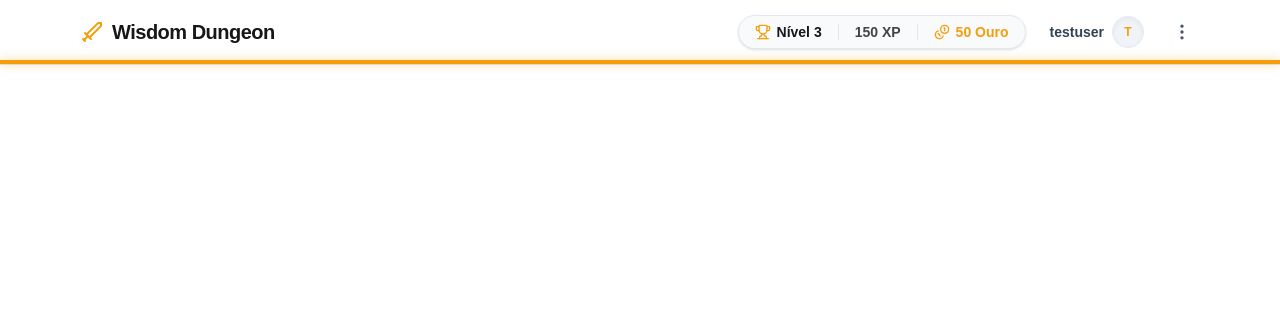
Test case: Header › shows more options menu when clicking the menu button
Click the "More options" button
Click the button named "Mais opções" at (1182, 32), box [1164,14,1200,50]
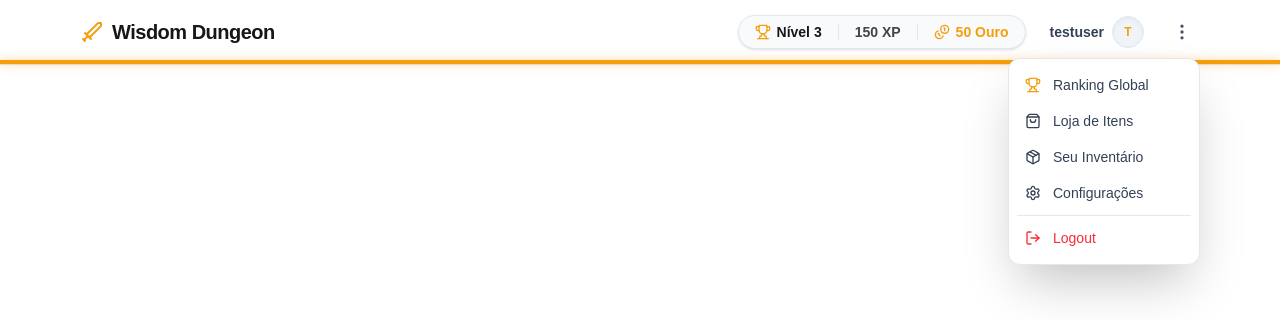
Expected: the link "Configurações" is shown, [1025,185,1143,201]
Expected: the button "Logout" is shown, [1009,220,1199,256]
